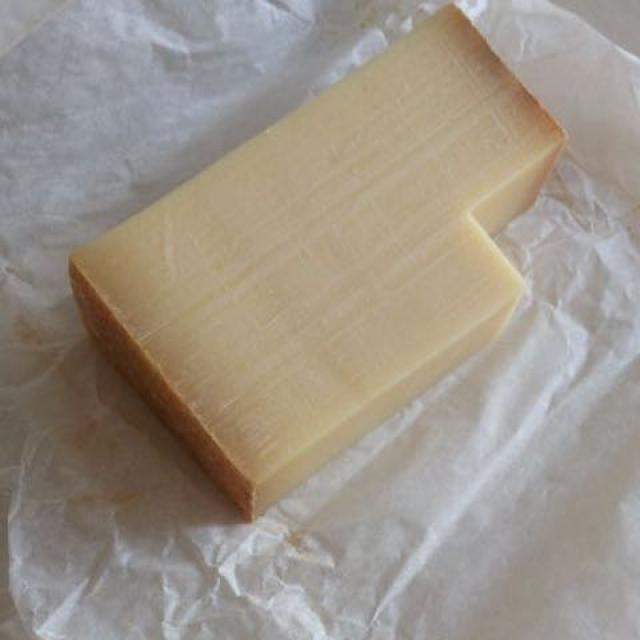cheese: (78, 17, 561, 509)
